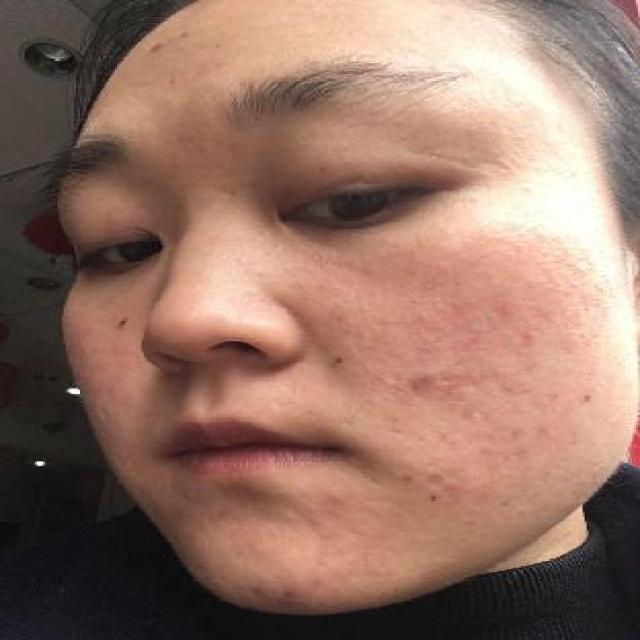dark spot: (402, 368, 449, 397), (488, 300, 521, 317), (498, 425, 534, 440), (474, 442, 498, 463), (513, 446, 535, 466)
papules: (322, 489, 351, 511)
